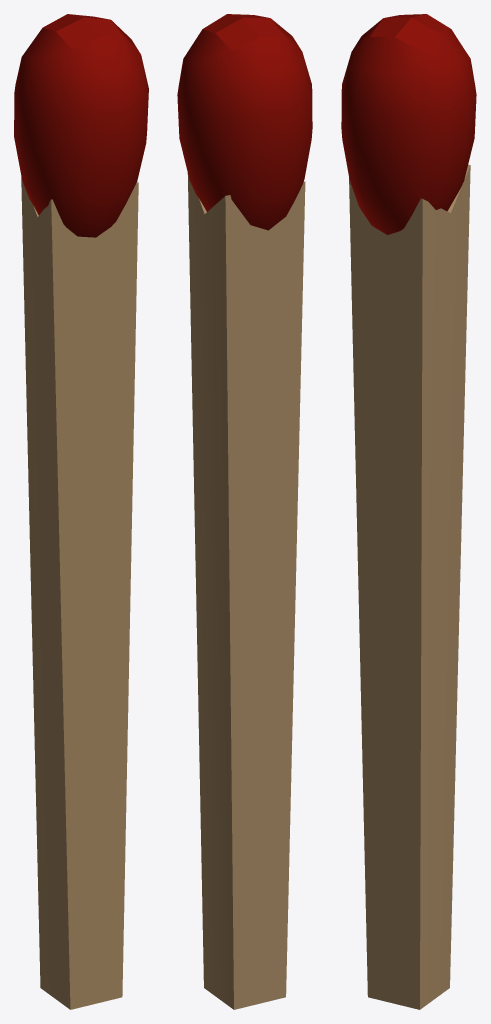
3 views of the same model, side by side, from view 1: azimuth 30°, elevation 25°; view 2: azimuth 210°, elevation 25°; view 3: azimuth 330°, elevation 25° (orthographic).
Parts seen in each view (by area): view 1: Cube, Cube.001; view 2: Cube, Cube.001; view 3: Cube, Cube.001.
Boxes of the visible parts, x1,y1,x2,y2 form: Cube: (21,177,138,1009); Cube.001: (14,14,148,237); Cube: (187,173,305,1009); Cube.001: (177,14,312,230); Cube: (349,164,470,1009); Cube.001: (341,14,476,234).
Bounding box in the file's own units: 117 × 934 × 117.
